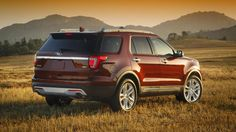Ford Explorer: (29, 26, 207, 114)
